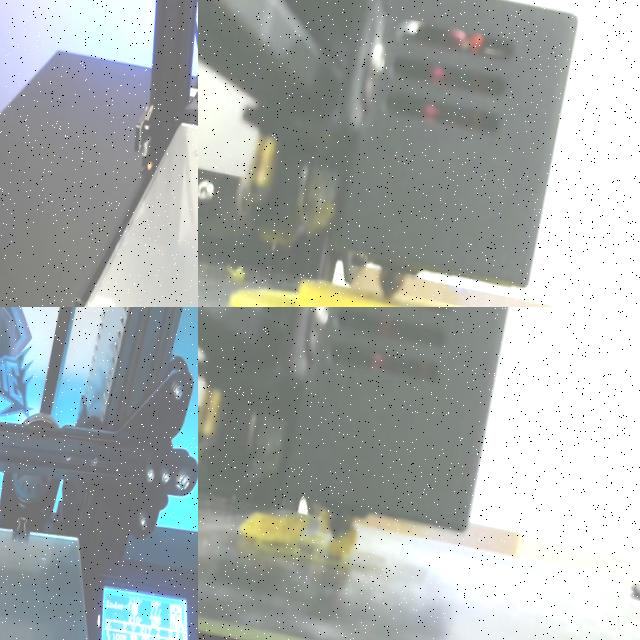spaghetti: (239, 511, 309, 546), (324, 511, 357, 560)
